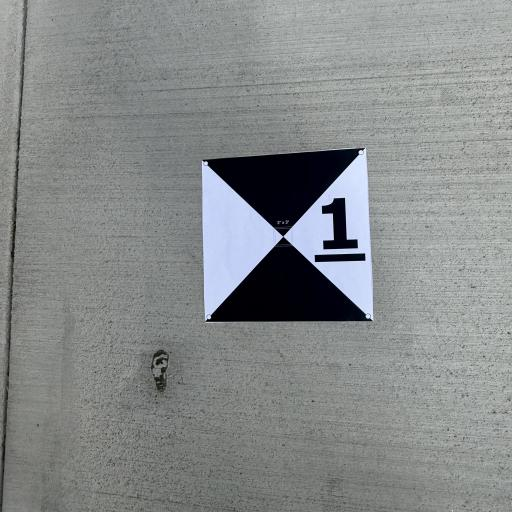target1: (196, 141, 382, 337)
